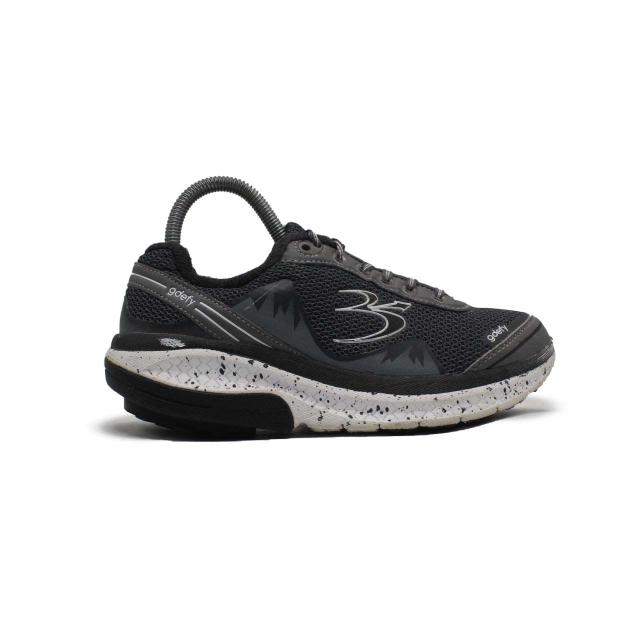heel: (117, 245, 177, 333)
midsole: (103, 341, 554, 438)
uppersole: (144, 224, 553, 394)
